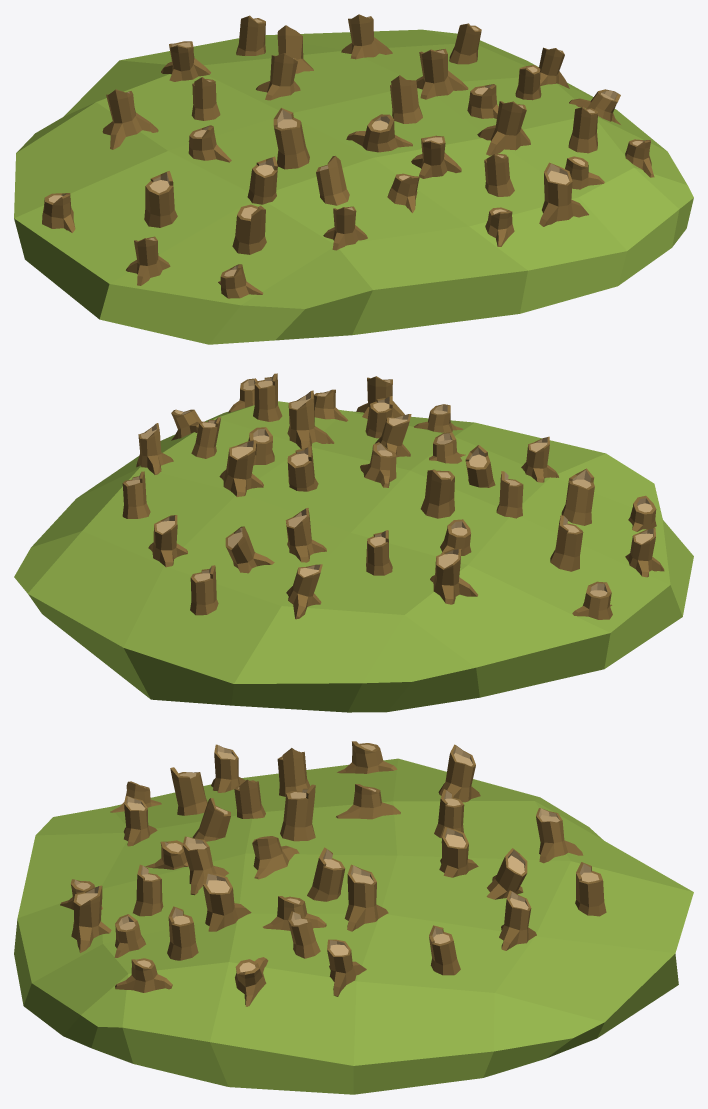
File: trunkforest.fbx
The picture shows the model from 3 angles, top to bottom: view 1: azimuth 30°, elevation 25°; view 2: azimuth 150°, elevation 25°; view 3: azimuth 270°, elevation 25°; orthographic projection. The views are drawn at different scales.
Parts seen in each view (by area): view 1: trunkforest_LOD0; view 2: trunkforest_LOD0; view 3: trunkforest_LOD0.
Part boxes in pixels (left/top/right/bottom): trunkforest_LOD0: left=14, top=14, right=693, bottom=344; trunkforest_LOD0: left=14, top=373, right=693, bottom=712; trunkforest_LOD0: left=14, top=741, right=693, bottom=1094.
Size of what is drawn, in the model's own units: 21.24 by 4.96 by 21.04.
